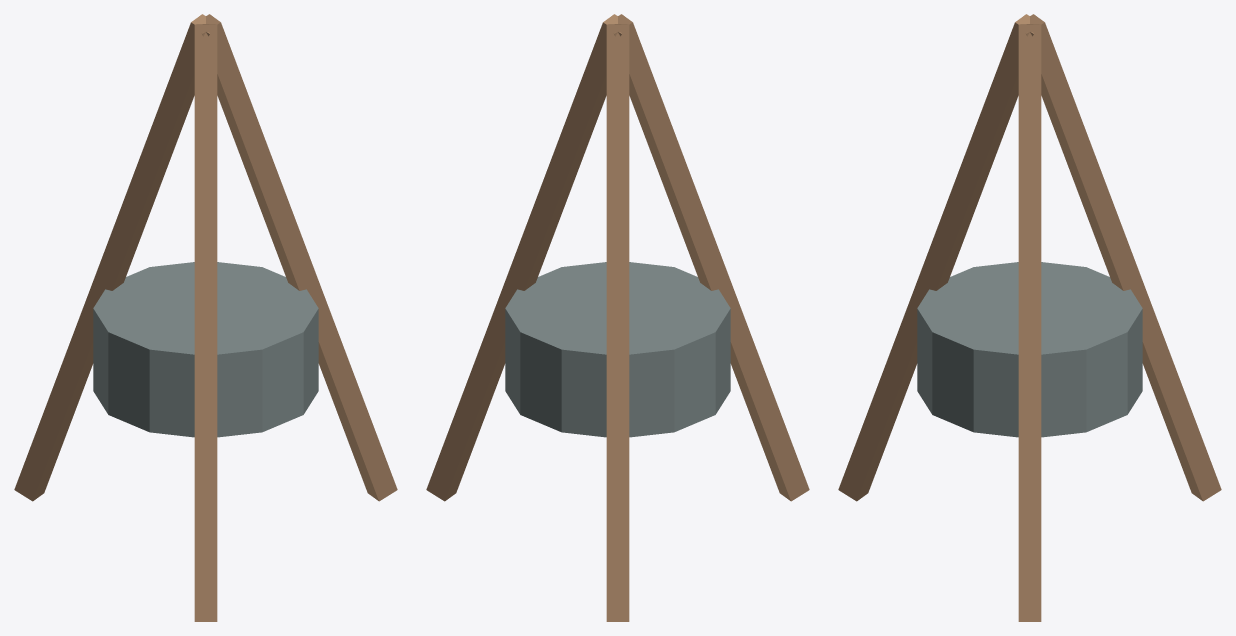
Rendered from cooking-tripod.glb.
3 views of the same model, side by side, from view 1: azimuth 30°, elevation 25°; view 2: azimuth 150°, elevation 25°; view 3: azimuth 270°, elevation 25° (orthographic).
Visible parts, largest first — view 1: Cooking pot, Tripod pole.002, Tripod pole, Tripod pole.001; view 2: Cooking pot, Tripod pole.001, Tripod pole, Tripod pole.002; view 3: Cooking pot, Tripod pole, Tripod pole.001, Tripod pole.002.
Boxes of the visible parts, x1,y1,x2,y2 form: Cooking pot: (93,262,318,437); Tripod pole.002: (194,24,217,621); Tripod pole: (201,14,397,501); Tripod pole.001: (14,14,210,501); Cooking pot: (505,262,730,437); Tripod pole.001: (606,24,629,621); Tripod pole: (426,14,622,501); Tripod pole.002: (613,14,809,501); Cooking pot: (917,262,1142,437); Tripod pole: (1018,24,1041,621); Tripod pole.001: (1025,14,1221,501); Tripod pole.002: (838,14,1034,501).
Size of the model in its own units: 1.09 by 1.88 by 1.26.
